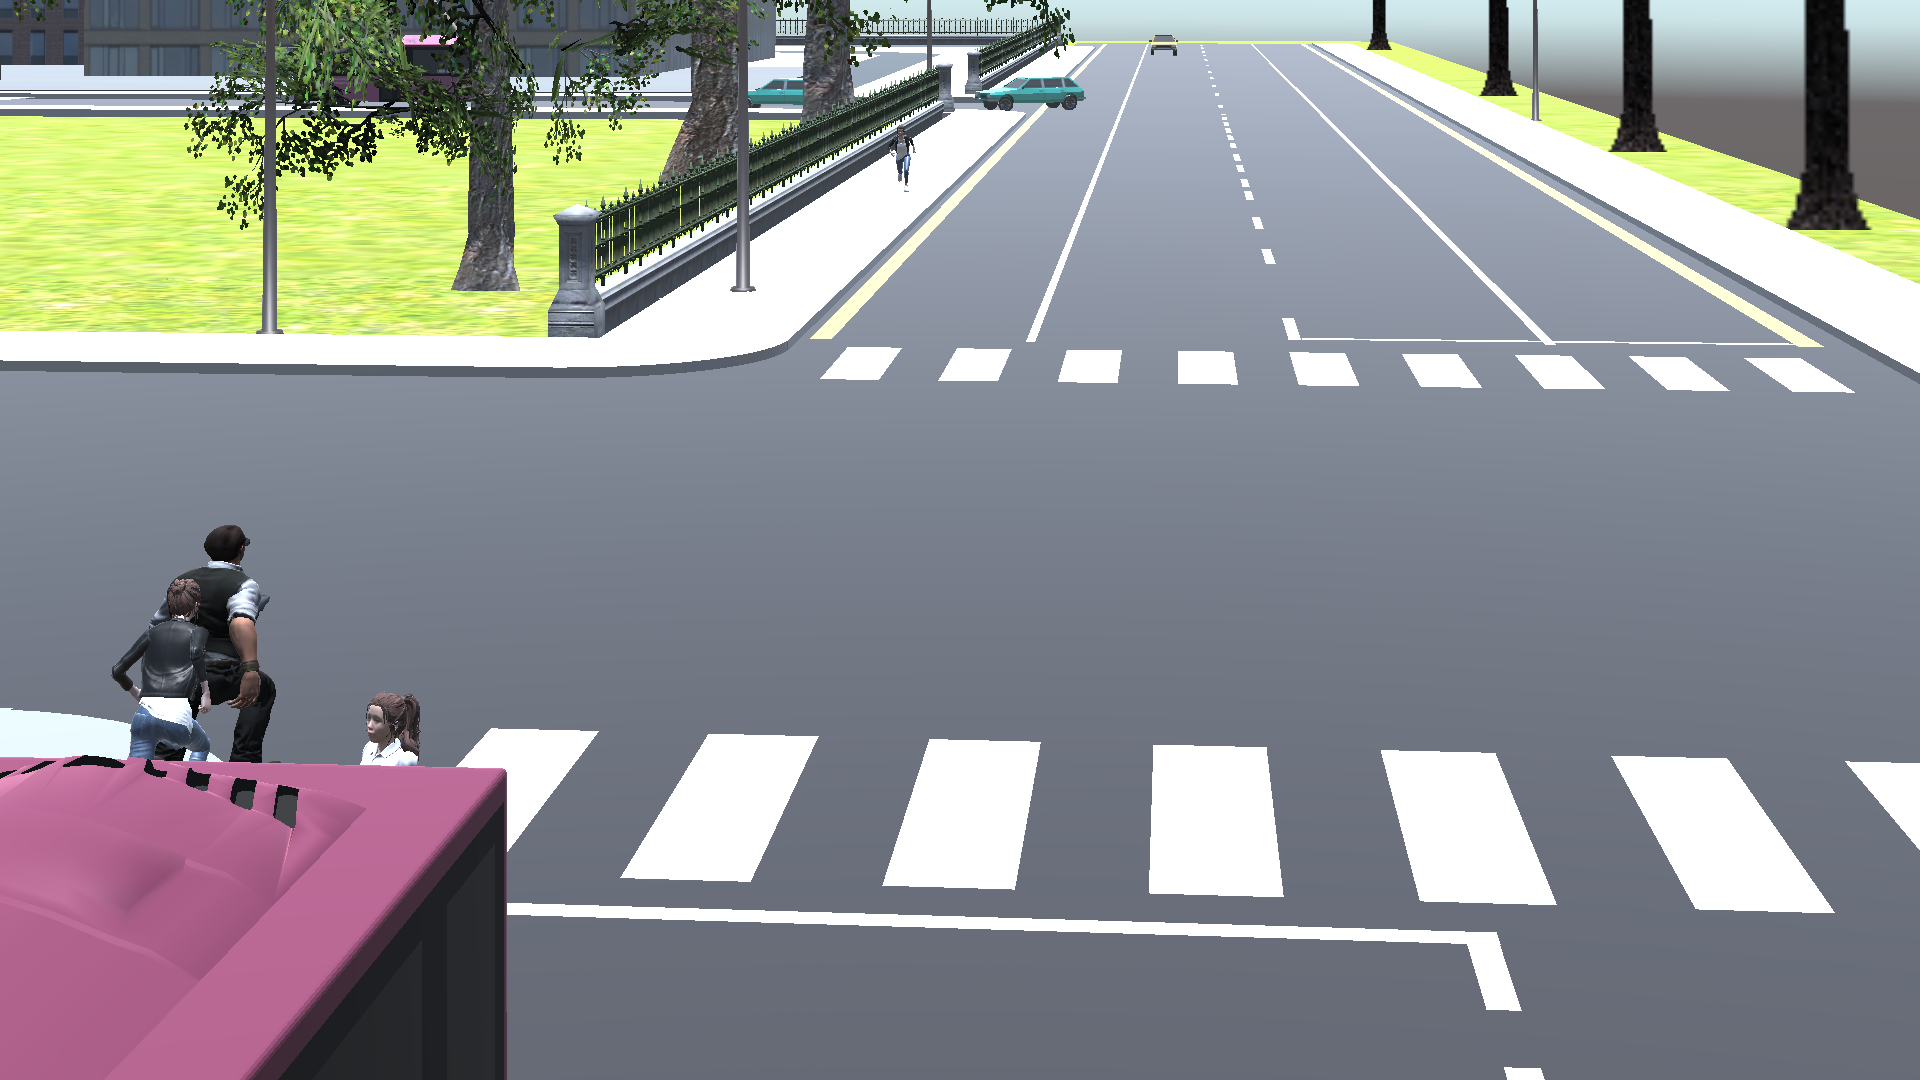pedestrian: (108, 575, 221, 762), (200, 522, 284, 758), (349, 678, 434, 764), (886, 115, 916, 199)
